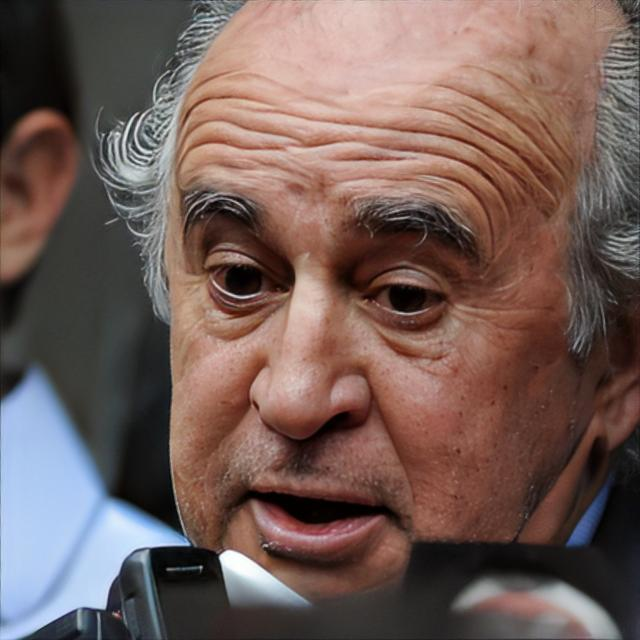surprise: (161, 0, 599, 606)
